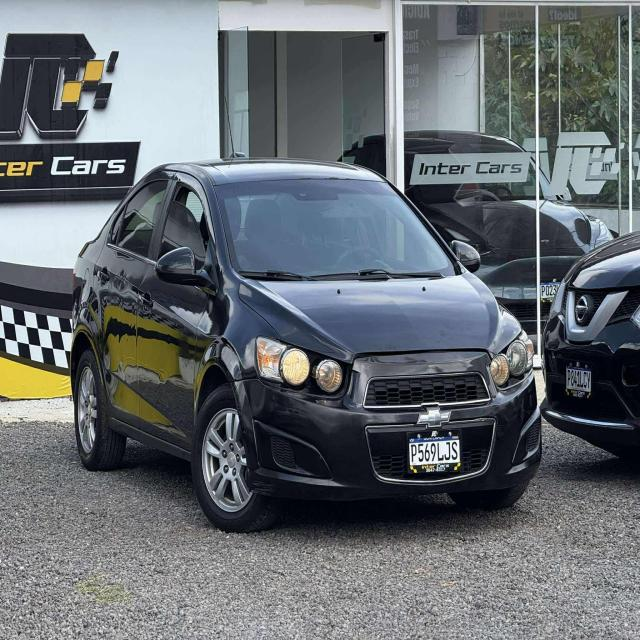Placas: (395, 427, 472, 476)
